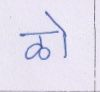o_matra: (48, 12, 70, 59)
